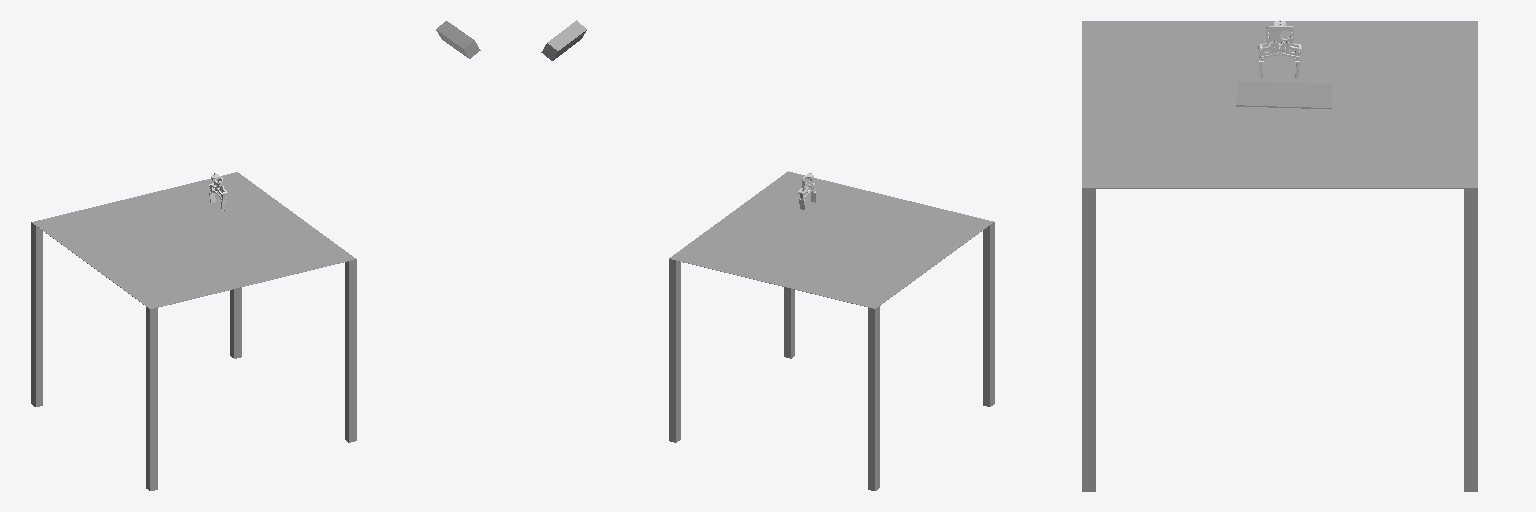
--- What the picture shows (computed from the rendered views, not written in the file) ---
Views: 3 orthographic renders of the robot side by side, from view 1: azimuth 30°, elevation 25°; view 2: azimuth 150°, elevation 25°; view 3: azimuth 270°, elevation 25°.
Robot: motoman_motomini — 32 links, 31 joints (16 revolute, 15 fixed); root link world; default pose: every joint at zero.
Visible links, largest first — view 1: table, leg2, leg1, leg4, leg3, camera_link; view 2: table, leg4, leg3, leg2, camera_link, leg1; view 3: table, leg1, leg3, camera_link.
Link boxes in pixels (x1,y1,x2,y2): table: (32,172,355,309); leg2: (146,307,157,490); leg1: (345,259,356,442); leg4: (31,222,42,406); leg3: (230,287,241,358); camera_link: (436,21,480,58); table: (669,171,993,308); leg4: (868,306,879,490); leg3: (669,259,680,442); leg2: (983,222,994,406); camera_link: (541,20,586,60); leg1: (784,287,794,358); table: (1082,21,1477,188); leg1: (1082,189,1095,491); leg3: (1464,189,1477,491); camera_link: (1236,81,1331,108).
Size in the robot's own frame: 1.52 by 0.83 by 1.26 metres.
Meshes: 13 distinct files referenced, 11 mesh visuals loaded (5 binary STL); not drawn: 8 (reference not matched to a file when rendering).

URDF robot description (motoman_motomini):
<?xml version="1.0" encoding="utf-8"?>
<!-- =================================================================================== -->
<!-- |    This document was autogenerated by xacro from motomini.xacro                 | -->
<!-- |    EDITING THIS FILE BY HAND IS NOT RECOMMENDED                                 | -->
<!-- =================================================================================== -->
<robot name="motoman_motomini">
  <!-- World frame -->
  <link name="world"/>
  <link name="table">
    <origin rpy="0 0 0" xyz="0.0 0.0 0"/>
    <inertial>
      <mass value="5"/>
      <origin xyz="0 0 0"/>
      <inertia ixx="1" ixy="0.0" ixz="0.0" iyy="1" iyz="0.0" izz="1"/>
    </inertial>
    <visual>
      <geometry>
        <box size="0.83 0.830 0.001"/>
      </geometry>
      <material name="light_grey">
        <color rgba="0.7 0.7 0.7 1.0"/>
      </material>
    </visual>
    <collision>
      <geometry>
        <box size="0.83 0.830 0.001"/>
      </geometry>
    </collision>
  </link>
  <link name="leg1">
    <origin rpy="0 0 0" xyz="0.0 0.0 0"/>
    <inertial>
      <mass value="1"/>
      <origin xyz="0 0 0"/>
      <inertia ixx="1" ixy="0.0" ixz="0.0" iyy="1" iyz="0.0" izz="1"/>
    </inertial>
    <visual>
      <geometry>
        <box size="0.03 0.03 0.7"/>
      </geometry>
      <material name="light_grey">
        <color rgba="0.7 0.7 0.7 1.0"/>
      </material>
    </visual>
    <collision>
      <geometry>
        <box size="0.03 0.03 0.7"/>
      </geometry>
    </collision>
  </link>
  <link name="leg2">
    <origin rpy="0 0 0" xyz="0.0 0.0 0"/>
    <inertial>
      <mass value="1"/>
      <origin xyz="0 0 0"/>
      <inertia ixx="1" ixy="0.0" ixz="0.0" iyy="1" iyz="0.0" izz="1"/>
    </inertial>
    <visual>
      <geometry>
        <box size="0.03 0.03 0.7"/>
      </geometry>
      <material name="light_grey">
        <color rgba="0.7 0.7 0.7 1.0"/>
      </material>
    </visual>
    <collision>
      <geometry>
        <box size="0.03 0.03 0.7"/>
      </geometry>
    </collision>
  </link>
  <link name="leg3">
    <origin rpy="0 0 0" xyz="0.0 0.0 0"/>
    <inertial>
      <mass value="1"/>
      <origin xyz="0 0 0"/>
      <inertia ixx="1" ixy="0.0" ixz="0.0" iyy="1" iyz="0.0" izz="1"/>
    </inertial>
    <visual>
      <geometry>
        <box size="0.03 0.03 0.7"/>
      </geometry>
      <material name="light_grey">
        <color rgba="0.7 0.7 0.7 1.0"/>
      </material>
    </visual>
    <collision>
      <geometry>
        <box size="0.03 0.03 0.7"/>
      </geometry>
    </collision>
  </link>
  <link name="leg4">
    <origin rpy="0 0 0" xyz="0.0 0.0 0"/>
    <inertial>
      <mass value="1"/>
      <origin xyz="0 0 0"/>
      <inertia ixx="1" ixy="0.0" ixz="0.0" iyy="1" iyz="0.0" izz="1"/>
    </inertial>
    <visual>
      <geometry>
        <box size="0.03 0.03 0.7"/>
      </geometry>
      <material name="light_grey">
        <color rgba="0.7 0.7 0.7 1.0"/>
      </material>
    </visual>
    <collision>
      <geometry>
        <box size="0.03 0.03 0.7"/>
      </geometry>
    </collision>
  </link>
  <joint name="world_joint" type="fixed">
    <parent link="world"/>
    <child link="table"/>
    <origin rpy="0 0 -1.57079632679" xyz="0 0 0"/>
    <!--<limit lower= "-3.0" upper= "3.0" effort="200" velocity="3" />
    <axis xyz = "0 0 1" />-->
  </joint>
  <joint name="leg1_joint" type="fixed">
    <parent link="table"/>
    <child link="leg1"/>
    <origin rpy="0.0 0.0 0" xyz="0.4 0.4 -0.35"/>
  </joint>
  <joint name="leg2_joint" type="fixed">
    <parent link="table"/>
    <child link="leg2"/>
    <origin rpy="0 0 0" xyz="0.4 -0.4 -0.35"/>
  </joint>
  <joint name="leg3_joint" type="fixed">
    <parent link="table"/>
    <child link="leg3"/>
    <origin rpy="0 0 0" xyz="-0.4 0.4 -0.35"/>
  </joint>
  <joint name="leg4_joint" type="fixed">
    <parent link="table"/>
    <child link="leg4"/>
    <origin rpy="0 0 0" xyz="-0.4 -0.4 -0.35"/>
  </joint>
  <!-- Properties -->
  <material name="yaskawa_blue">
    <color rgba="0.12941 0.14902 0.74902 1"/>
  </material>
  <!-- link list -->
  <link name="base_link">
    <visual>
      <geometry>
        <mesh filename="package://motoman_motomini_support/meshes/motomini/visual/base_link.stl"/>
      </geometry>
      <material name="yaskawa_blue"/>
    </visual>
    <collision>
      <geometry>
        <mesh filename="package://motoman_motomini_support/meshes/motomini/collision/base_link.stl"/>
      </geometry>
    </collision>
    <inertial>
      <origin rpy="0 0 0" xyz="0 0 0"/>
      <mass value="0.1"/>
      <inertia ixx="0.001" ixy="0.001" ixz="0.001" iyy="0.001" iyz="0.001" izz="0.001"/>
    </inertial>
  </link>
  <link name="link_1_s">
    <visual>
      <geometry>
        <mesh filename="package://motoman_motomini_support/meshes/motomini/visual/link_1_s.stl"/>
      </geometry>
      <material name="yaskawa_blue"/>
    </visual>
    <collision>
      <geometry>
        <mesh filename="package://motoman_motomini_support/meshes/motomini/collision/link_1_s.stl"/>
      </geometry>
    </collision>
    <inertial>
      <origin rpy="0 0 0" xyz="0 0 0"/>
      <mass value="0.1"/>
      <inertia ixx="0.001" ixy="0.001" ixz="0.001" iyy="0.001" iyz="0.001" izz="0.001"/>
    </inertial>
  </link>
  <link name="link_2_l">
    <visual>
      <geometry>
        <mesh filename="package://motoman_motomini_support/meshes/motomini/visual/link_2_l.stl"/>
      </geometry>
      <material name="yaskawa_blue"/>
    </visual>
    <collision>
      <geometry>
        <mesh filename="package://motoman_motomini_support/meshes/motomini/collision/link_2_l.stl"/>
      </geometry>
    </collision>
    <inertial>
      <origin rpy="0 0 0" xyz="0 0 0"/>
      <mass value="0.1"/>
      <inertia ixx="0.001" ixy="0.001" ixz="0.001" iyy="0.001" iyz="0.001" izz="0.001"/>
    </inertial>
  </link>
  <link name="link_3_u">
    <visual>
      <geometry>
        <mesh filename="package://motoman_motomini_support/meshes/motomini/visual/link_3_u.stl"/>
      </geometry>
      <material name="yaskawa_blue"/>
    </visual>
    <collision>
      <geometry>
        <mesh filename="package://motoman_motomini_support/meshes/motomini/collision/link_3_u.stl"/>
      </geometry>
    </collision>
    <inertial>
      <origin rpy="0 0 0" xyz="0 0 0"/>
      <mass value="0.1"/>
      <inertia ixx="0.001" ixy="0.001" ixz="0.001" iyy="0.001" iyz="0.001" izz="0.001"/>
    </inertial>
  </link>
  <link name="link_4_r">
    <visual>
      <geometry>
        <mesh filename="package://motoman_motomini_support/meshes/motomini/visual/link_4_r.stl"/>
      </geometry>
      <material name="yaskawa_blue"/>
    </visual>
    <collision>
      <geometry>
        <mesh filename="package://motoman_motomini_support/meshes/motomini/collision/link_4_r.stl"/>
      </geometry>
    </collision>
    <inertial>
      <origin rpy="0 0 0" xyz="0 0 0"/>
      <mass value="0.1"/>
      <inertia ixx="0.001" ixy="0.001" ixz="0.001" iyy="0.001" iyz="0.001" izz="0.001"/>
    </inertial>
  </link>
  <link name="link_5_b">
    <visual>
      <geometry>
        <mesh filename="package://motoman_motomini_support/meshes/motomini/visual/link_5_b.stl"/>
      </geometry>
      <material name="yaskawa_blue"/>
    </visual>
    <collision>
      <geometry>
        <mesh filename="package://motoman_motomini_support/meshes/motomini/collision/link_5_b.stl"/>
      </geometry>
    </collision>
    <inertial>
      <origin rpy="0 0 0" xyz="0 0 0"/>
      <mass value="0.1"/>
      <inertia ixx="0.001" ixy="0.001" ixz="0.001" iyy="0.001" iyz="0.001" izz="0.001"/>
    </inertial>
  </link>
  <link name="link_6_t">
    <visual>
      <geometry>
        <mesh filename="package://motoman_motomini_support/meshes/motomini/visual/link_6_t.stl"/>
      </geometry>
      <material name="yaskawa_blue"/>
    </visual>
    <collision>
      <geometry>
        <mesh filename="package://motoman_motomini_support/meshes/motomini/collision/link_6_t.stl"/>
      </geometry>
    </collision>
    <inertial>
      <origin rpy="0 0 0" xyz="0 0 0"/>
      <mass value="0.1"/>
      <inertia ixx="0.001" ixy="0.001" ixz="0.001" iyy="0.001" iyz="0.001" izz="0.001"/>
    </inertial>
  </link>
  <link name="tool0"/>
  <link name="tool_tip"/>
  <!-- end of link list -->
  <!-- Kinect link -->
  <material name="black">
    <color rgba="0. 0. 0. 1"/>
  </material>
  <material name="dark_grey">
    <color rgba="0.1 0.1 0.1 1"/>
  </material>
  <material name="grey">
    <color rgba="0.6 0.6 0.6 1"/>
  </material>
  <material name="white">
    <color rgba="0.9 0.9 0.9 1"/>
  </material>
  <link name="camera_link">
    <visual>
      <origin rpy="0 0 0" xyz="0 0 0"/>
      <geometry>
        <box size="0.05 0.2 0.05"/>
      </geometry>
      <material name="light_grey">
        <color rgba="0.7 0.7 0.7 1.0"/>
      </material>
    </visual>
    <collision>
      <origin rpy="0 0 0" xyz="0 0 0"/>
      <geometry>
        <box size="0.05 0.2 0.05"/>
      </geometry>
    </collision>
  </link>
  <link name="camera_rgb_optical_frame"/>
  <joint name="camera_joint" type="fixed">
    <parent link="base_link"/>
    <child link="camera_link"/>
    <origin xyz="1.17 0.009 0.52" rpy="0.03 0.49 -3.14159265359"/>
  </joint>
  <joint name="camera_optical_joint" type="fixed">
    <!--0.4712 ${{-M_PI/2}-0.4712}-->
    <origin rpy="-1.57079632679 0 -1.57079632679" xyz="0 0 0"/>
    <parent link="camera_link"/>
    <child link="camera_rgb_optical_frame"/>
  </joint>
  <!-- joint list -->
  <!--joint name="world_joint" type="fixed">
    <parent link="world"/>
    <child link="table"/>
    <origin rpy="0.0 0.0 -1.57" xyz="0.0 0.0 0"/>
  </joint-->
  <joint name="table_joint" type="fixed">
    <parent link="table"/>
    <child link="base_link"/>
    <origin rpy="0.0 0.0 1.57079632679" xyz="0 -0.1015 0.0"/>
  </joint>
  <joint name="joint_1_s" type="revolute">
    <parent link="base_link"/>
    <child link="link_1_s"/>
    <origin rpy="0 0 0" xyz="0 0 0.103"/>
    <axis xyz="0 0 1"/>
    <limit effort="0.12" lower="-2.9670" upper="2.9670" velocity="5.4977"/>
  </joint>
  <joint name="joint_2_l" type="revolute">
    <parent link="link_1_s"/>
    <child link="link_2_l"/>
    <origin rpy="0 0 0" xyz="0.020 0 0"/>
    <axis xyz="0 1 0"/>
    <limit effort="0.12" lower="-1.4835" upper="1.5707" velocity="5.4977"/>
  </joint>
  <joint name="joint_3_u" type="revolute">
    <parent link="link_2_l"/>
    <child link="link_3_u"/>
    <origin rpy="0 0 0" xyz="0 0 0.165"/>
    <axis xyz="0 -1 0"/>
    <limit effort="0.12" lower="-0.8726" upper="1.5707" velocity="7.3304"/>
  </joint>
  <joint name="joint_4_r" type="revolute">
    <parent link="link_3_u"/>
    <child link="link_4_r"/>
    <origin rpy="0 0 0" xyz="0.165 0 0"/>
    <axis xyz="-1 0 0"/>
    <limit effort="0.07" lower="-2.4434" upper="2.4434" velocity="10.4719"/>
  </joint>
  <joint name="joint_5_b" type="revolute">
    <parent link="link_4_r"/>
    <child link="link_5_b"/>
    <origin rpy="0 0 0" xyz="0 0 0"/>
    <axis xyz="0 -1 0"/>
    <limit effort="0.07" lower="-0.5235" upper="3.6651" velocity="10.4719"/>
  </joint>
  <joint name="joint_6_t" type="revolute">
    <parent link="link_5_b"/>
    <child link="link_6_t"/>
    <origin rpy="0 0 0" xyz="0 0 0"/>
    <axis xyz="0 0 1"/>
    <limit effort="0.07" lower="-1.57079632679" upper="1.57079632679" velocity="10.4719"/>
  </joint>
  <joint name="joint_6_t-tool0" type="fixed">
    <origin rpy="3.14159265359 0 0" xyz="0 0 -0.040 "/>
    <parent link="link_6_t"/>
    <child link="tool0"/>
  </joint>
  <joint name="gripper_tip" type="fixed">
    <origin rpy="3.14159265359 -1.57079632679 0" xyz="0.012 0 0.115 "/>
    <parent link="tool0"/>
    <child link="tool_tip"/>
  </joint>
  <!-- end of joint list -->
  <!-- ROS base_link to Robot Manufacturer World Coordinates transform -->
  <link name="base"/>
  <joint name="base_link-base" type="fixed">
    <origin rpy="0 0 0" xyz="0 0 0.103"/>
    <parent link="base_link"/>
    <child link="base"/>
  </joint>
  <gazebo reference="joint_1_s">
    <mu1>5.0</mu1>
    <mu2>5.0</mu2>
    <material>Gazebo/Grey</material>
    <turnGravityOff>false</turnGravityOff>
  </gazebo>
  <gazebo reference="joint_2_l">
    <mu1>5.0</mu1>
    <mu2>5.0</mu2>
    <material>Gazebo/Grey</material>
    <turnGravityOff>false</turnGravityOff>
  </gazebo>
  <gazebo reference="joint_3_u">
    <mu1>5.0</mu1>
    <mu2>5.0</mu2>
    <material>Gazebo/Grey</material>
    <turnGravityOff>false</turnGravityOff>
  </gazebo>
  <gazebo reference="joint_4_r">
    <mu1>5.0</mu1>
    <mu2>5.0</mu2>
    <material>Gazebo/Grey</material>
    <turnGravityOff>false</turnGravityOff>
  </gazebo>
  <gazebo reference="joint_5_b">
    <mu1>5.0</mu1>
    <mu2>5.0</mu2>
    <material>Gazebo/Grey</material>
    <turnGravityOff>false</turnGravityOff>
  </gazebo>
  <gazebo reference="joint_6_t">
    <mu1>5.0</mu1>
    <mu2>5.0</mu2>
    <material>Gazebo/Grey</material>
    <turnGravityOff>false</turnGravityOff>
  </gazebo>
  <!--gazebo reference="finger1">
    <implicitSpringDamper>1</implicitSpringDamper>
    <kp>1000000.0</kp>
    <kd>1.0</kd>
    <mu1>10000.0</mu1>
    <mu2>10000.0</mu2>
    <minDepth>0.001</minDepth>
    <turnGravityOff>false</turnGravityOff>
</gazebo>

<gazebo reference="finger2">
    <implicitSpringDamper>1</implicitSpringDamper>
    <kp>1000000.0</kp>
    <kd>1.0</kd>
    <mu1>100000</mu1>
    <mu2>100000</mu2>
    <minDepth>0.001</minDepth>
    <turnGravityOff>false</turnGravityOff>
</gazebo-->
  <gazebo reference="camera_link">
    <sensor name="camera_1" type="depth">
      <always_on>true</always_on>
      <visualize>true</visualize>
      <update_rate>15.0</update_rate>
      <camera>
        <horizontal_fov>1.047197</horizontal_fov>
        <image>
          <format>B8G8R8</format>
          <width>640</width>
          <height>480</height>
        </image>
        <depth_camera>
        </depth_camera>
        <clip>
          <near>0.05</near>
          <far>50</far>
        </clip>
      </camera>
      <plugin filename="libgazebo_ros_openni_kinect.so" name="camera_controller">
        <baseline>0.1</baseline>
        <alwaysOn>true</alwaysOn>
        <updateRate>10.0</updateRate>
        <cameraName>kinect</cameraName>
        <frameName>camera_rgb_optical_frame</frameName>
        <imageTopicName>rgb/image_raw</imageTopicName>
        <depthImageTopicName>depth/image_raw</depthImageTopicName>
        <pointCloudTopicName>depth/points</pointCloudTopicName>
        <cameraInfoTopicName>rgb/camera_info</cameraInfoTopicName>
        <depthImageCameraInfoTopicName>depth/camera_info</depthImageCameraInfoTopicName>
        <pointCloudCutoff>0.4</pointCloudCutoff>
        <hackBaseline>0.07</hackBaseline>
        <distortionK1>0.0</distortionK1>
        <distortionK2>0.0</distortionK2>
        <distortionK3>0.0</distortionK3>
        <distortionT1>0.0</distortionT1>
        <distortionT2>0.0</distortionT2>
        <CxPrime>0.0</CxPrime>
        <Cx>0.0</Cx>
        <Cy>0.0</Cy>
        <focalLength>0.0</focalLength>
      </plugin>
    </sensor>
  </gazebo>
  <!--gazebo reference="realsense_link">
    <sensor type="depth" name="intelrealsense2">
      <always_on>1</always_on>
      <visualize>true</visualize>
      <camera>
        <horizontal_fov>1.047</horizontal_fov>
        <image>
          <width>640</width>
          <height>480</height>
          <format>R8G8B8</format>
        </image>
        <depth_camera>

        </depth_camera>
        <clip>
          <near>0.1</near>
          <far>100</far>
        </clip>
      </camera>
      <plugin name="intelrealsense" filename="libgazebo_ros_openni_kinect.so">
        <alwaysOn>true</alwaysOn>
        <updateRate>10.0</updateRate>
        <cameraName>realsense</cameraName>
        <frameName>realsense_depth_optical_frame</frameName>
        <imageTopicName>/realsense/color/image_raw</imageTopicName>
        <depthImageTopicName>/realsense/depth/image_raw</depthImageTopicName>
        <pointCloudTopicName>depth/points2</pointCloudTopicName>
        <cameraInfoTopicName>/realsense/color/camera_info</cameraInfoTopicName>
        <depthImageCameraInfoTopicName>/realsense/depth/camera_info</depthImageCameraInfoTopicName>
         <pointCloudCutoff>0.2</pointCloudCutoff>
         <pointCloudCutoffMax>10.0</pointCloudCutoffMax>
        <hackBaseline>0.07</hackBaseline>
        <distortionK1>0.0</distortionK1>
        <distortionK2>0.0</distortionK2>
        <distortionK3>0.0</distortionK3>
        <distortionT1>0.0</distortionT1>
        <distortionT2>0.0</distortionT2>
        <CxPrime>0.0</CxPrime>
        <Cx>0.0</Cx>
        <Cy>0.0</Cy>
        <focalLength>0.0</focalLength>
      </plugin>
    </sensor>
  </gazebo-->
  <!--gazebo>
   <plugin name="gazebo_grasp_fix" filename="libgazebo_grasp_fix.so">
        <arm>
           <arm_name>robot</arm_name>
           <palm_link>link5</palm_link>
           <gripper_link>finger1</gripper_link>
           <gripper_link>finger2</gripper_link>
        </arm>
       <forces_angle_tolerance>100</forces_angle_tolerance>
       <update_rate>1000</update_rate>
       <grip_count_threshold>1</grip_count_threshold>
       <max_grip_count>2</max_grip_count>
       <release_tolerance>0.005</release_tolerance>
       <disable_collisions_on_attach>true</disable_collisions_on_attach>
       <contact_topic>__default_topic__</contact_topic>
    </plugin>
</gazebo-->
  <!-- ...........................................control........................................................................... -->
  <gazebo>
    <plugin filename="libgazebo_ros_control.so" name="gazebo_ros_control">
      <robotNamespace>/</robotNamespace>
      <robotSimType>gazebo_ros_control/DefaultRobotHWSim</robotSimType>
      <legacyModeNS>true</legacyModeNS>
    </plugin>
  </gazebo>
  <transmission name="base_link1_control">
    <type>transmission_interface/SimpleTransmission</type>
    <joint name="joint_1_s">
      <hardwareInterface>hardware_interface/PositionJointInterface</hardwareInterface>
    </joint>
    <actuator name="base_link1_motor">
      <hardwareInterface>hardware_interface/PositionJointInterface</hardwareInterface>
      <mechanicalReduction>3</mechanicalReduction>
    </actuator>
  </transmission>
  <transmission name="link1_link2_control">
    <type>transmission_interface/SimpleTransmission</type>
    <joint name="joint_2_l">
      <hardwareInterface>hardware_interface/PositionJointInterface</hardwareInterface>
    </joint>
    <actuator name="link2_motor">
      <hardwareInterface>hardware_interface/PositionJointInterface</hardwareInterface>
      <mechanicalReduction>3</mechanicalReduction>
    </actuator>
  </transmission>
  <transmission name="link2_link3_control">
    <type>transmission_interface/SimpleTransmission</type>
    <joint name="joint_3_u">
      <hardwareInterface>hardware_interface/PositionJointInterface</hardwareInterface>
    </joint>
    <actuator name="link3_motor">
      <hardwareInterface>hardware_interface/PositionJointInterface</hardwareInterface>
      <mechanicalReduction>3</mechanicalReduction>
    </actuator>
  </transmission>
  <transmission name="link3_link4_control">
    <type>transmission_interface/SimpleTransmission</type>
    <joint name="joint_4_r">
      <hardwareInterface>hardware_interface/PositionJointInterface</hardwareInterface>
    </joint>
    <actuator name="link4_motor">
      <hardwareInterface>hardware_interface/PositionJointInterface</hardwareInterface>
      <mechanicalReduction>2</mechanicalReduction>
    </actuator>
  </transmission>
  <transmission name="link4_link5_control">
    <type>transmission_interface/SimpleTransmission</type>
    <joint name="joint_5_b">
      <hardwareInterface>hardware_interface/PositionJointInterface</hardwareInterface>
    </joint>
    <actuator name="link5_motor">
      <hardwareInterface>hardware_interface/PositionJointInterface</hardwareInterface>
      <mechanicalReduction>2</mechanicalReduction>
    </actuator>
  </transmission>
  <transmission name="link5_link6_control">
    <type>transmission_interface/SimpleTransmission</type>
    <joint name="joint_6_t">
      <hardwareInterface>hardware_interface/PositionJointInterface</hardwareInterface>
    </joint>
    <actuator name="link5_motor">
      <hardwareInterface>hardware_interface/PositionJointInterface</hardwareInterface>
      <mechanicalReduction>2</mechanicalReduction>
    </actuator>
  </transmission>
  <!--transmission name="link5_finger1_control">
    <type>transmission_interface/SimpleTransmission</type>
    <joint name="l_finger_joint">
     <hardwareInterface>hardware_interface/PositionJointInterface</hardwareInterface>
    </joint>
    <actuator name="l_finger_motor">
     <hardwareInterface>hardware_interface/PositionJointInterface</hardwareInterface>
     <mechanicalReduction>2</mechanicalReduction>
    </actuator>
</transmission>

<transmission name="link5_finger2_control">
    <type>transmission_interface/SimpleTransmission</type>
    <joint name="r_finger_joint">
     <hardwareInterface>hardware_interface/PositionJointInterface</hardwareInterface>
    </joint>
    <actuator name="r_finger_motor">
     <hardwareInterface>hardware_interface/PositionJointInterface</hardwareInterface>
     <mechanicalReduction>2</mechanicalReduction>
    </actuator>
</transmission-->
  <link name="gripper_base">
    <visual>
      <geometry>
        <mesh filename="package://motoman_motomini_support/meshes/gripper/base.stl"/>
      </geometry>
      <material name="white"/>
    </visual>
    <collision>
      <geometry>
        <mesh filename="package://motoman_motomini_support/meshes/gripper/base.stl"/>
      </geometry>
    </collision>
    <inertial>
      <origin rpy="0 0 0" xyz="0 0 0"/>
      <mass value="0.1"/>
      <inertia ixx="0.001" ixy="0.001" ixz="0.001" iyy="0.001" iyz="0.001" izz="0.001"/>
    </inertial>
  </link>
  <link name="claw_1a">
    <visual>
      <geometry>
        <mesh filename="package://motoman_motomini_support/meshes/gripper/claw_1.stl"/>
      </geometry>
      <material name="white"/>
    </visual>
    <collision>
      <geometry>
        <mesh filename="package://motoman_motomini_support/meshes/gripper/claw_1.stl"/>
      </geometry>
    </collision>
    <inertial>
      <origin rpy="0 0 0" xyz="0 0 0"/>
      <mass value="0.1"/>
      <inertia ixx="0.001" ixy="0.001" ixz="0.001" iyy="0.001" iyz="0.001" izz="0.001"/>
    </inertial>
  </link>
  <link name="claw_1b">
    <visual>
      <geometry>
        <mesh filename="package://motoman_motomini_support/meshes/gripper/claw_1.stl"/>
      </geometry>
      <material name="white"/>
    </visual>
    <collision>
      <geometry>
        <mesh filename="package://motoman_motomini_support/meshes/gripper/claw_1.stl"/>
      </geometry>
    </collision>
    <inertial>
      <origin rpy="0 0 0" xyz="0 0 0"/>
      <mass value="0.1"/>
      <inertia ixx="0.001" ixy="0.001" ixz="0.001" iyy="0.001" iyz="0.001" izz="0.001"/>
    </inertial>
  </link>
  <link name="claw_2a">
    <visual>
      <geometry>
        <mesh filename="package://motoman_motomini_support/meshes/gripper/claw_2.stl"/>
      </geometry>
      <material name="white"/>
    </visual>
    <collision>
      <geometry>
        <mesh filename="package://motoman_motomini_support/meshes/gripper/claw_2.stl"/>
      </geometry>
    </collision>
    <inertial>
      <origin rpy="0 0 0" xyz="0 0 0"/>
      <mass value="0.1"/>
      <inertia ixx="0.001" ixy="0.001" ixz="0.001" iyy="0.001" iyz="0.001" izz="0.001"/>
    </inertial>
  </link>
  <link name="claw_2b">
    <visual>
      <geometry>
        <mesh filename="package://motoman_motomini_support/meshes/gripper/claw_2.stl"/>
      </geometry>
      <material name="white"/>
    </visual>
    <collision>
      <geometry>
        <mesh filename="package://motoman_motomini_support/meshes/gripper/claw_2.stl"/>
      </geometry>
    </collision>
    <inertial>
      <origin rpy="0 0 0" xyz="0 0 0"/>
      <mass value="0.1"/>
      <inertia ixx="0.001" ixy="0.001" ixz="0.001" iyy="0.001" iyz="0.001" izz="0.001"/>
    </inertial>
  </link>
  <link name="link_1a">
    <visual>
      <geometry>
        <mesh filename="package://motoman_motomini_support/meshes/gripper/link_1.stl"/>
      </geometry>
      <material name="white"/>
    </visual>
    <collision>
      <geometry>
        <mesh filename="package://motoman_motomini_support/meshes/gripper/link_1.stl"/>
      </geometry>
    </collision>
    <inertial>
      <origin rpy="0 0 0" xyz="0 0 0"/>
      <mass value="0.1"/>
      <inertia ixx="0.001" ixy="0.001" ixz="0.001" iyy="0.001" iyz="0.001" izz="0.001"/>
    </inertial>
  </link>
  <link name="link_1b">
    <visual>
      <geometry>
        <mesh filename="package://motoman_motomini_support/meshes/gripper/link_1.stl"/>
      </geometry>
      <material name="white"/>
    </visual>
    <collision>
      <geometry>
        <mesh filename="package://motoman_motomini_support/meshes/gripper/link_1.stl"/>
      </geometry>
    </collision>
    <inertial>
      <origin rpy="0 0 0" xyz="0 0 0"/>
      <mass value="0.1"/>
      <inertia ixx="0.001" ixy="0.001" ixz="0.001" iyy="0.001" iyz="0.001" izz="0.001"/>
    </inertial>
  </link>
  <link name="link_2a">
    <visual>
      <geometry>
        <mesh filename="package://motoman_motomini_support/meshes/gripper/link_2.stl"/>
      </geometry>
      <material name="white"/>
    </visual>
    <collision>
      <geometry>
        <mesh filename="package://motoman_motomini_support/meshes/gripper/link_2.stl"/>
      </geometry>
    </collision>
    <inertial>
      <origin rpy="0 0 0" xyz="0 0 0"/>
      <mass value="0.1"/>
      <inertia ixx="0.001" ixy="0.001" ixz="0.001" iyy="0.001" iyz="0.001" izz="0.001"/>
    </inertial>
  </link>
  <link name="link_2b">
    <visual>
      <geometry>
        <mesh filename="package://motoman_motomini_support/meshes/gripper/link_2.stl"/>
      </geometry>
      <material name="white"/>
    </visual>
    <collision>
      <geometry>
        <mesh filename="package://motoman_motomini_support/meshes/gripper/link_2.stl"/>
      </geometry>
    </collision>
    <inertial>
      <origin rpy="0 0 0" xyz="0 0 0"/>
      <mass value="0.1"/>
      <inertia ixx="0.001" ixy="0.001" ixz="0.001" iyy="0.001" iyz="0.001" izz="0.001"/>
    </inertial>
  </link>
  <link name="link_2c">
    <visual>
      <geometry>
        <mesh filename="package://motoman_motomini_support/meshes/gripper/link_2.stl"/>
      </geometry>
      <material name="white"/>
    </visual>
    <collision>
      <geometry>
        <mesh filename="package://motoman_motomini_support/meshes/gripper/link_2.stl"/>
      </geometry>
    </collision>
    <inertial>
      <origin rpy="0 0 0" xyz="0 0 0"/>
      <mass value="0.1"/>
      <inertia ixx="0.001" ixy="0.001" ixz="0.001" iyy="0.001" iyz="0.001" izz="0.001"/>
    </inertial>
  </link>
  <link name="link_2d">
    <visual>
      <geometry>
        <mesh filename="package://motoman_motomini_support/meshes/gripper/link_2.stl"/>
      </geometry>
      <material name="white"/>
    </visual>
    <collision>
      <geometry>
        <mesh filename="package://motoman_motomini_support/meshes/gripper/link_2.stl"/>
      </geometry>
    </collision>
    <inertial>
      <origin rpy="0 0 0" xyz="0 0 0"/>
      <mass value="0.1"/>
      <inertia ixx="0.001" ixy="0.001" ixz="0.001" iyy="0.001" iyz="0.001" izz="0.001"/>
    </inertial>
  </link>
  <!--link name="servo_motor">
    <visual>
      <geometry>
        <box size="0.054 0.020 0.038"/>
      </geometry>
      <material name="white"/>
    </visual>
    <collision>
      <geometry>
        <box size="0.054 0.020 0.038"/>
      </geometry>
    </collision>
        <inertial>
        <origin xyz="0 0 0" rpy="0 0 0" />
        <mass value= "0.1"/>
        <inertia ixx="0.001" ixy="0.001" ixz="0.001" iyy="0.001" iyz="0.001" izz="0.001" />
    </inertial>
  </link-->
  <joint name="gripper_joint" type="fixed">
    <parent link="tool0"/>
    <child link="gripper_base"/>
    <origin rpy="0 -1.57079632679 3.14159265359" xyz="0 0 0"/>
    <!--<limit lower= "-3.0" upper= "3.0" effort="200" velocity="3" />
    <axis xyz = "0 0 1" />-->
  </joint>
  <joint name="claw_1b_joint" type="revolute">
    <parent link="gripper_base"/>
    <child link="claw_1b"/>
    <limit effort="200" lower="-3.0" upper="3.0" velocity="3"/>
    <axis xyz="0 0 1"/>
    <origin rpy="0.0 0.0 1.3386" xyz="0.045 0.01154 0.017503"/>
    <!-- 1.3386-->
  </joint>
  <joint name="claw_1a_joint" type="revolute">
    <parent link="gripper_base"/>
    <child link="claw_1a"/>
    <limit effort="200" lower="-3.0" upper="3.0" velocity="3"/>
    <axis xyz="0 0 1"/>
    <origin rpy="0.0 0.0 -1.3386" xyz="0.045 -0.01154 0.017503"/>
    <!-- -1.3386-->
    <mimic joint="claw_1b_joint" multiplier="-1"/>
  </joint>
  <joint name="claw_2a_joint" type="revolute">
    <parent link="claw_1a"/>
    <child link="claw_2a"/>
    <limit effort="200" lower="-3.0" upper="3.0" velocity="3"/>
    <axis xyz="0 0 1"/>
    <!--origin rpy="0.0 3.142 0" xyz="0.032 -0.011563 0.0050405"/-->
    <origin rpy="3.142 0 -1.6029994" xyz="0.03 0 -0.005"/>
    <mimic joint="claw_1b_joint" multiplier="-1"/>
  </joint>
  <joint name="claw_2b_joint" type="revolute">
    <parent link="claw_1b"/>
    <child link="claw_2b"/>
    <limit effort="200" lower="-3.0" upper="3.0" velocity="3"/>
    <axis xyz="0 0 1"/>
    <origin rpy="3.142 3.142 -1.6029994" xyz="0.03 0 -0.005"/>
    <mimic joint="claw_1b_joint" multiplier="-1"/>
  </joint>
  <joint name="link_1a_joint" type="revolute">
    <parent link="gripper_base"/>
    <child link="link_1a"/>
    <limit effort="200" lower="-3.0" upper="3.0" velocity="3"/>
    <axis xyz="0 0 1"/>
    <origin rpy="0.0 0.0 1.8033928" xyz="0.045 -0.01154 0.0044"/>
    <mimic joint="claw_1b_joint" multiplier="-1"/>
  </joint>
  <joint name="link_1b_joint" type="revolute">
    <parent link="gripper_base"/>
    <child link="link_1b"/>
    <limit effort="200" lower="-3.0" upper="3.0" velocity="3"/>
    <axis xyz="0 0 1"/>
    <origin rpy="0.0 0.0 -1.8033928" xyz="0.045 0.01154 0.0044"/>
    <mimic joint="claw_1b_joint" multiplier="1"/>
  </joint>
  <joint name="link_2a_joint" type="revolute">
    <parent link="gripper_base"/>
    <child link="link_2a"/>
    <limit effort="200" lower="-3.0" upper="3.0" velocity="3"/>
    <axis xyz="0 0 1"/>
    <origin rpy="0.0 0.0 1.8033928" xyz="0.062257 -0.0040985 0.02"/>
    <mimic joint="claw_1b_joint" multiplier="-1"/>
  </joint>
  <joint name="link_2b_joint" type="revolute">
    <parent link="gripper_base"/>
    <child link="link_2b"/>
    <limit effort="200" lower="-3.0" upper="3.0" velocity="3"/>
    <axis xyz="0 0 1"/>
    <origin rpy="0.0 0.0 -1.8033928" xyz="0.062257 0.0040985 0.02"/>
    <mimic joint="claw_1b_joint" multiplier="1"/>
  </joint>
  <joint name="link_2c_joint" type="revolute">
    <parent link="gripper_base"/>
    <child link="link_2c"/>
    <limit effort="200" lower="-3.0" upper="3.0" velocity="3"/>
    <axis xyz="0 0 1"/>
    <origin rpy="0.0 0.0 1.8033928" xyz="0.062257 -0.0040985 0.005"/>
    <mimic joint="claw_1b_joint" multiplier="-1"/>
  </joint>
  <joint name="link_2d_joint" type="revolute">
    <parent link="gripper_base"/>
    <child link="link_2d"/>
    <limit effort="200" lower="-3.0" upper="3.0" velocity="3"/>
    <axis xyz="0 0 1"/>
    <origin rpy="0.0 0.0 -1.8033928" xyz="0.062257 0.0040985 0.005"/>
    <mimic joint="claw_1b_joint" multiplier="1"/>
  </joint>
  <!--joint name="servo_joint" type="fixed">
    <parent link="gripper_base"/>
    <child link="servo_motor"/>
    <origin rpy="0.0 0.0 1.5707" xyz="0.062257 0.0040985 0"/>
  </joint-->
  <link name="realsense_link">
    <collision>
      <origin rpy="0 0 0" xyz="0.02 0 0"/>
      <geometry>
        <box size="0.001 0.001 0.001"/>
      </geometry>
    </collision>
    <visual>
      <origin rpy="1.5707 0 1.5707" xyz="0 0 0"/>
      <geometry>
        <mesh filename="package://motoman_motomini_support/meshes/NAVRS.STL"/>
      </geometry>
    </visual>
    <inertial>
      <mass value="1e-5"/>
      <origin rpy="0 0 0" xyz="0 0 0"/>
      <inertia ixx="0" ixy="0" ixz="0" iyy="0" iyz="0" izz="0"/>
    </inertial>
  </link>
  <joint name="realsense_joint" type="fixed">
    <parent link="gripper_base"/>
    <child link="realsense_link"/>
    <origin rpy="0 0 0" xyz="0.05 0 0.055"/>
    <!--<limit lower= "-3.0" upper= "3.0" effort="200" velocity="3" />
    <axis xyz = "0 0 1" />-->
  </joint>
  <joint name="camera_optical_joint2" type="fixed">
    <origin rpy="-1.57079632679 0 -1.57079632679" xyz="0 0 0"/>
    <parent link="realsense_link"/>
    <child link="realsense_rgb_optical_frame"/>
  </joint>
  <link name="realsense_rgb_optical_frame">
  </link>
  <joint name="camera_depth_joint2" type="fixed">
    <origin rpy="-1.57079632679 0 -1.57079632679" xyz="0 0 0"/>
    <parent link="realsense_link"/>
    <child link="realsense_depth_optical_frame"/>
  </joint>
  <link name="realsense_depth_optical_frame">
  </link>
</robot>
